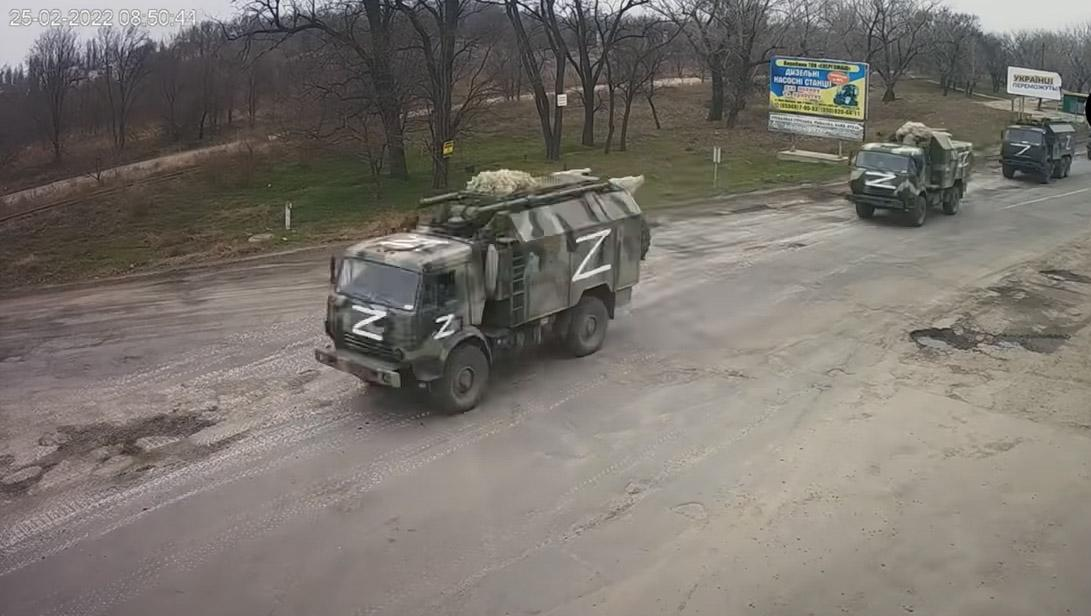truck: (307, 160, 660, 416), (844, 120, 979, 243), (992, 109, 1077, 192)
